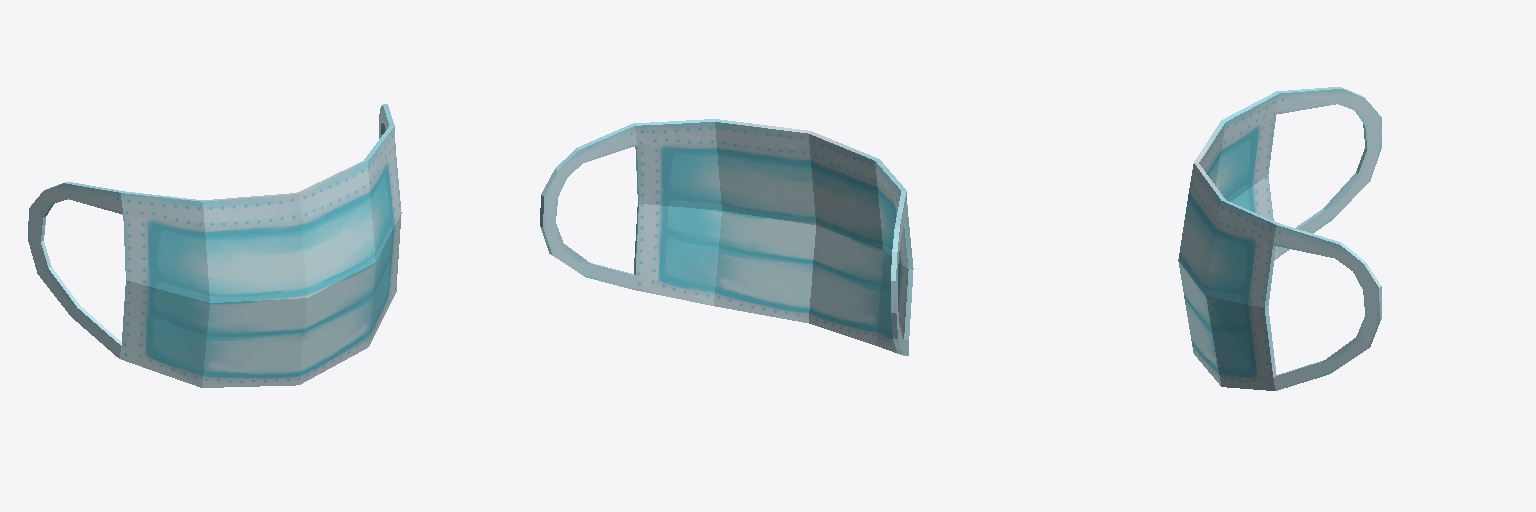
3 renders of one model, left to right at view 1: azimuth 30°, elevation 25°; view 2: azimuth 150°, elevation 25°; view 3: azimuth 270°, elevation 25°, orthographic.
Visible parts, largest first — view 1: mask_Plane; view 2: mask_Plane; view 3: mask_Plane.
Boxes of the visible parts, <box> form: mask_Plane: <box>28,104,401,387</box>; mask_Plane: <box>540,119,913,355</box>; mask_Plane: <box>1178,87,1381,390</box>.
Size of the model in its own units: 1.56 by 0.8182 by 0.7715.
1 materials, 1 textured.